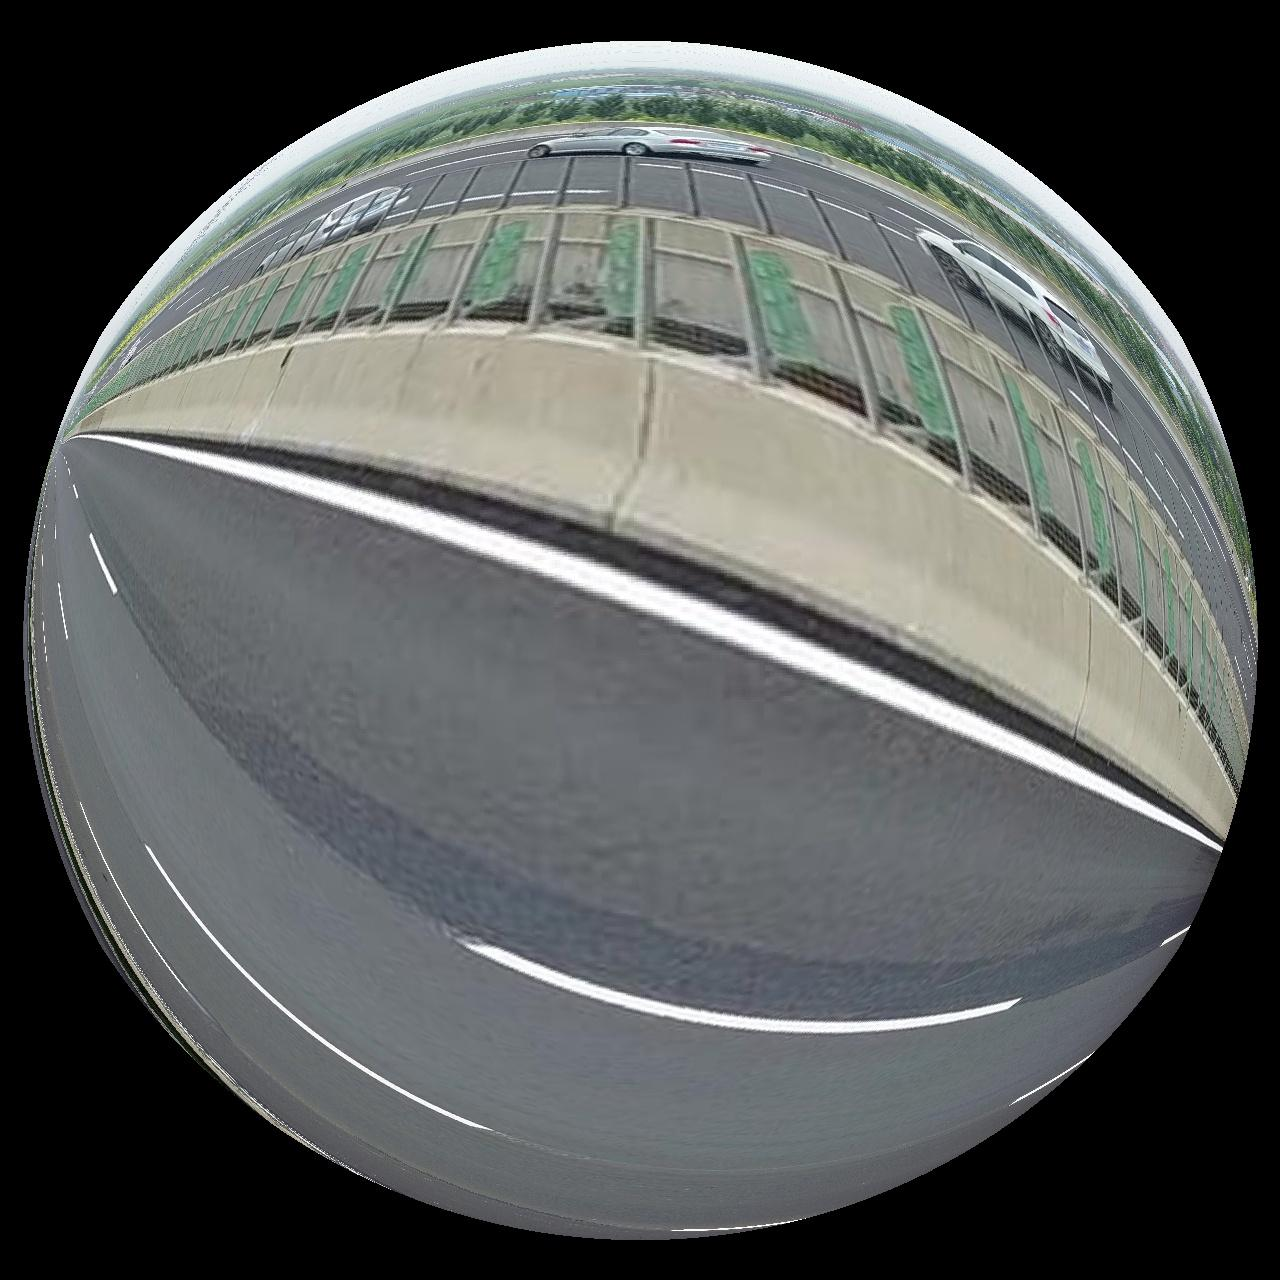cars: (919, 228, 1114, 400), (254, 187, 411, 272), (528, 123, 772, 162)
